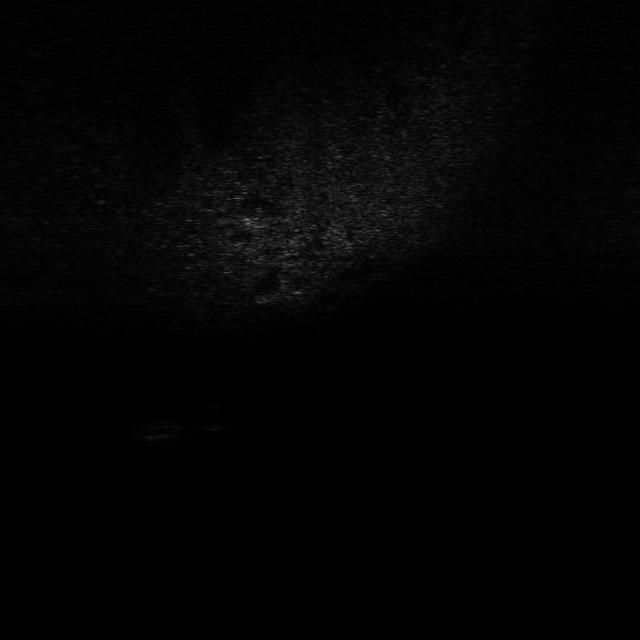ball: (196, 402, 240, 433)
circle cage: (127, 413, 187, 448)
